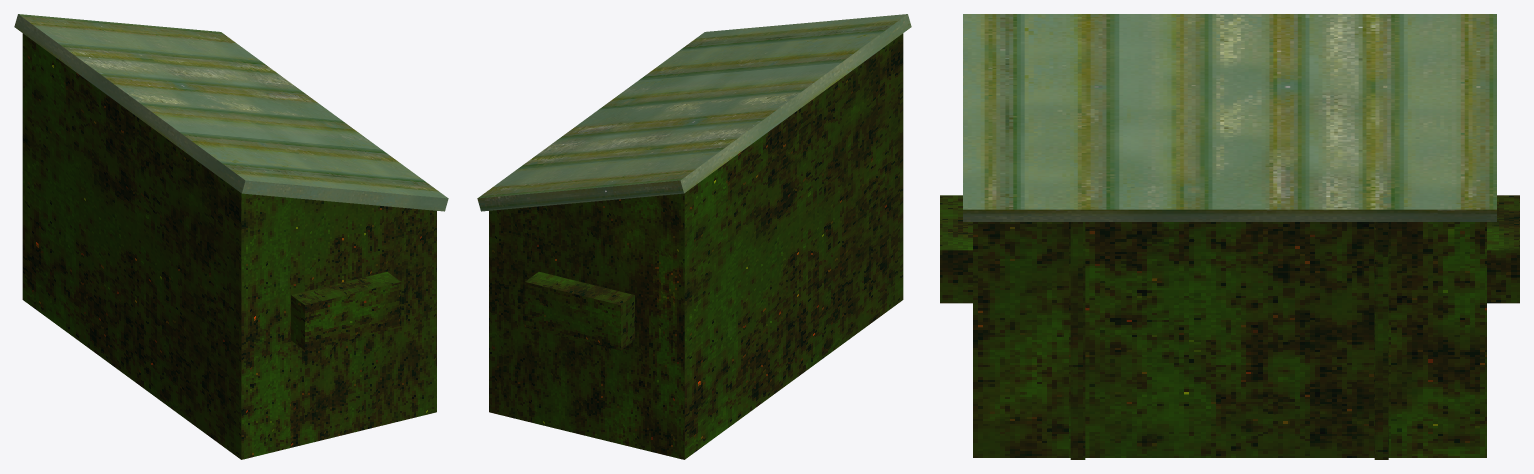
Rendered from dumpster.gltf.
3 views of the same model, side by side, from view 1: azimuth 30°, elevation 25°; view 2: azimuth 150°, elevation 25°; view 3: azimuth 270°, elevation 25° (orthographic). The views are drawn at different scales.
Visible parts, largest first — view 1: Cube; view 2: Cube; view 3: Cube.
Part boxes in pixels (x1=…): Cube: x1=14, y1=14, x2=448, y2=459; Cube: x1=477, y1=14, x2=911, y2=459; Cube: x1=940, y1=14, x2=1519, y2=459.
Size of the model in its own units: 3.93 by 5.13 by 8.13.
2 materials, 2 textured.
